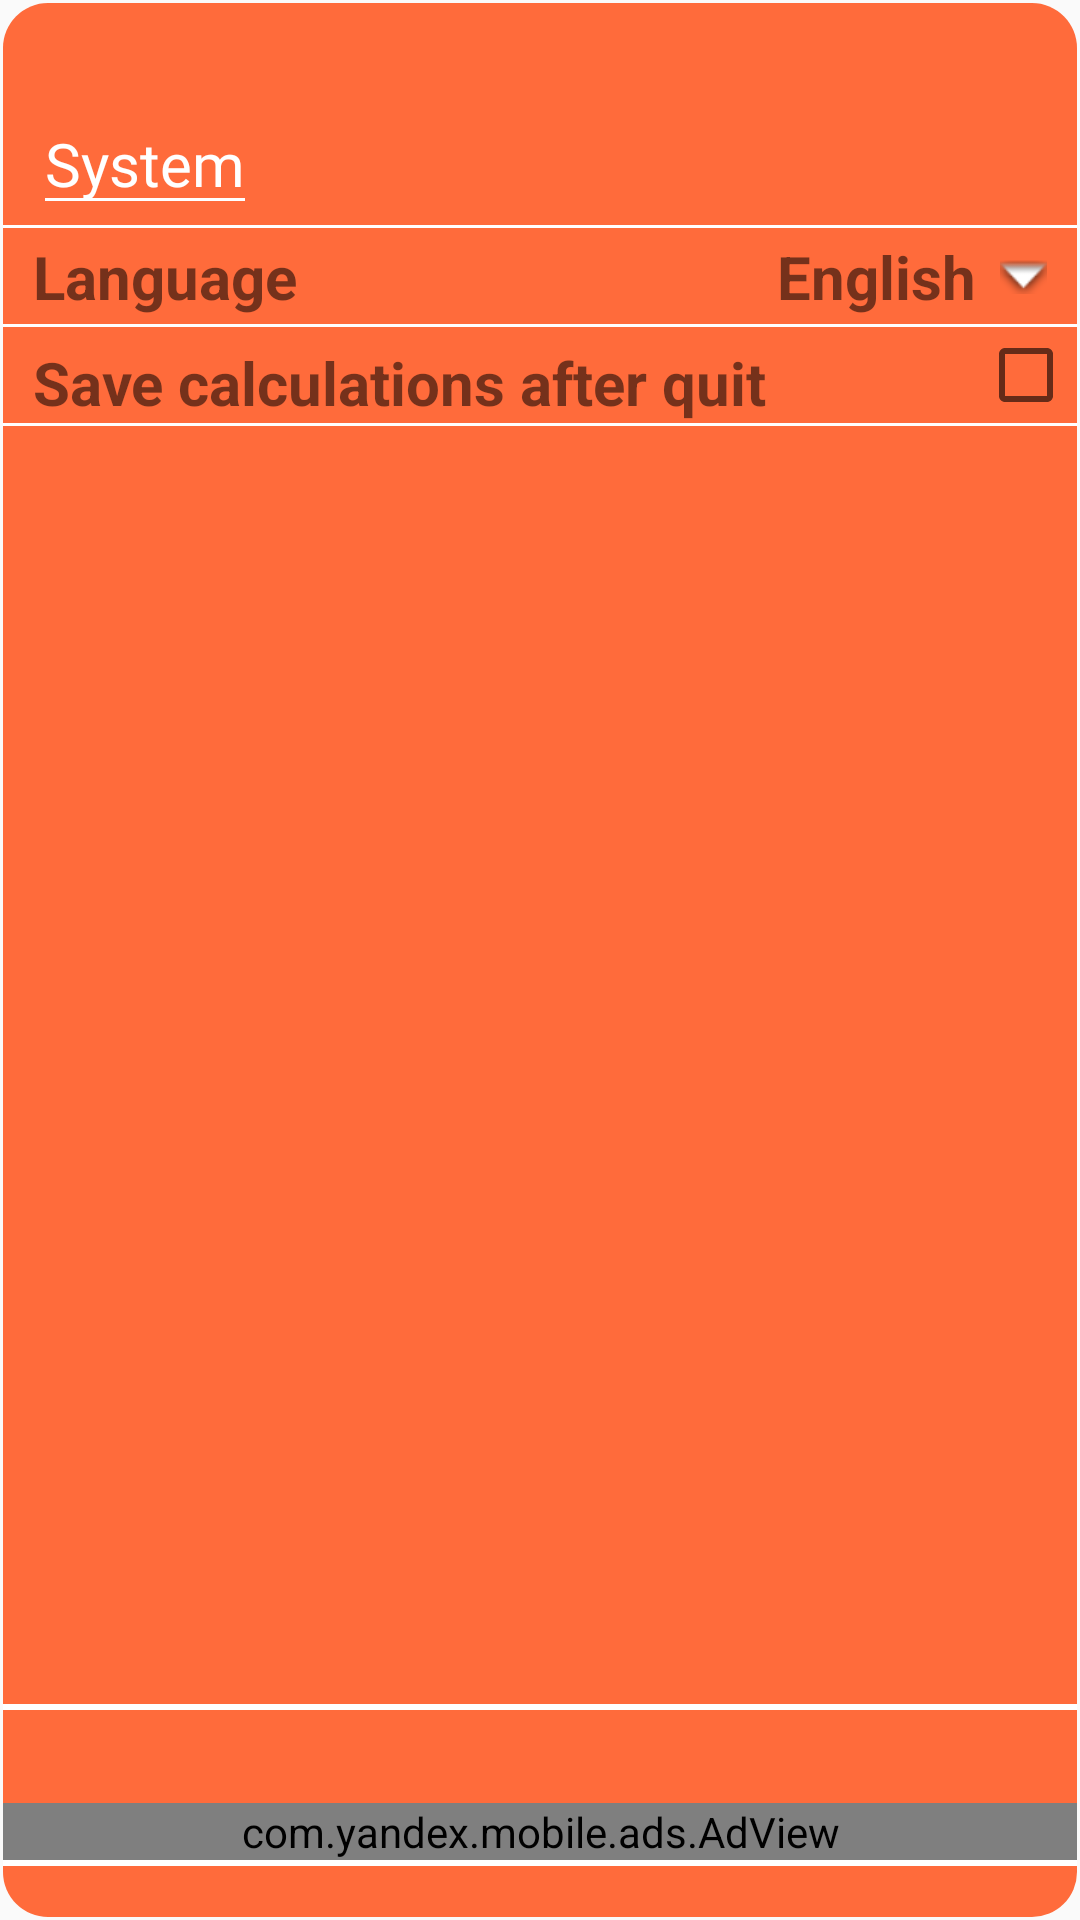

Where icons sit on this 1080 × 1920 app screen, as bbox=[x1, y1, x2, y2]:
arrow down float: bbox=[1000, 261, 1047, 293]
